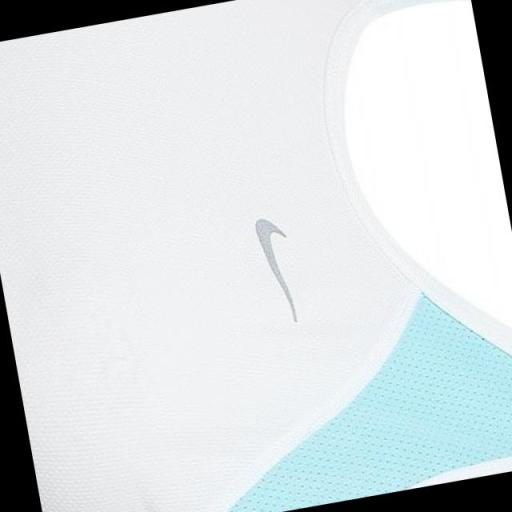Nike: (244, 198, 306, 343)
